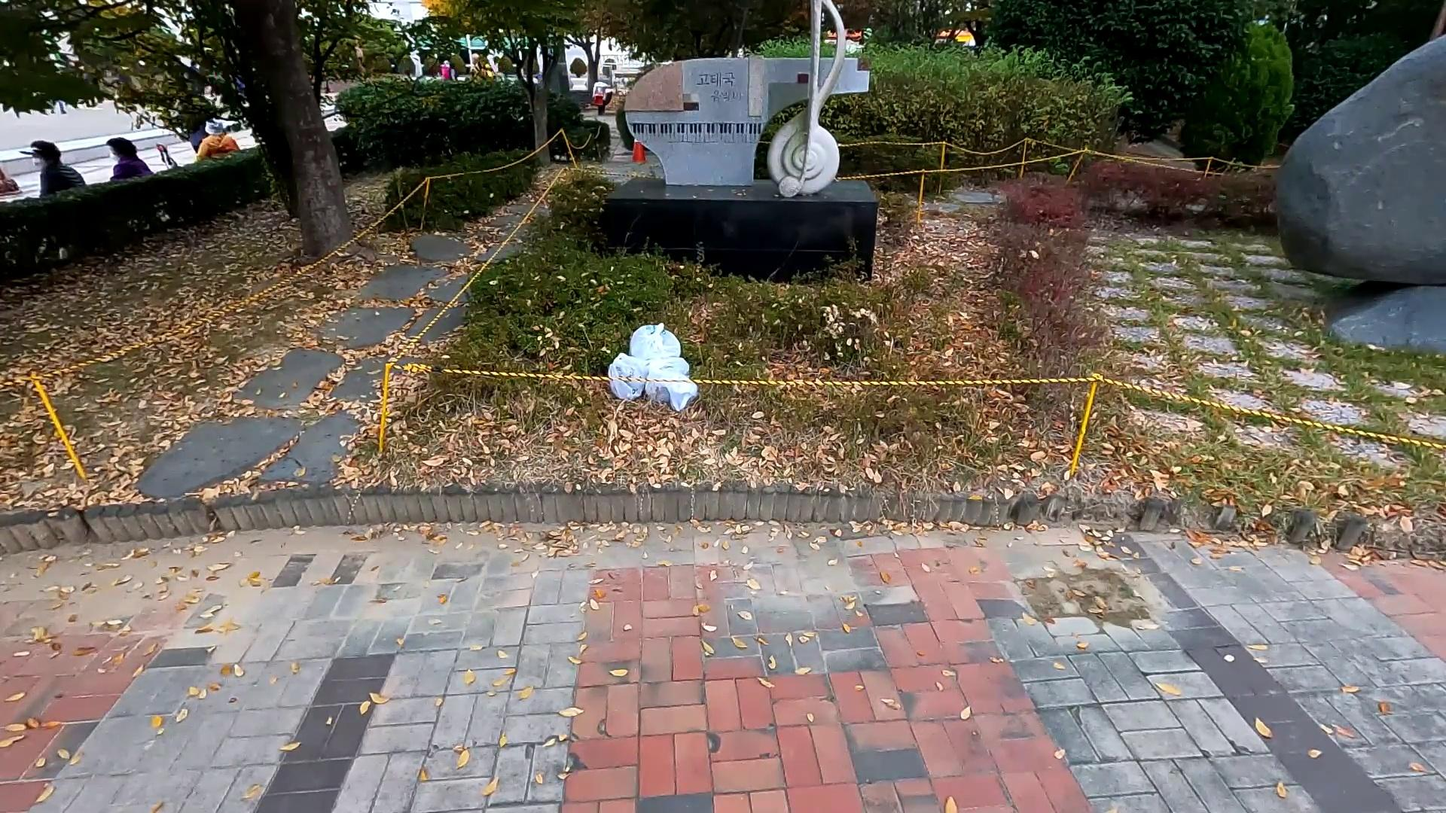person: (31, 135, 89, 203), (100, 129, 153, 189)
trash: (629, 320, 683, 393), (645, 356, 699, 410), (601, 350, 649, 404)
